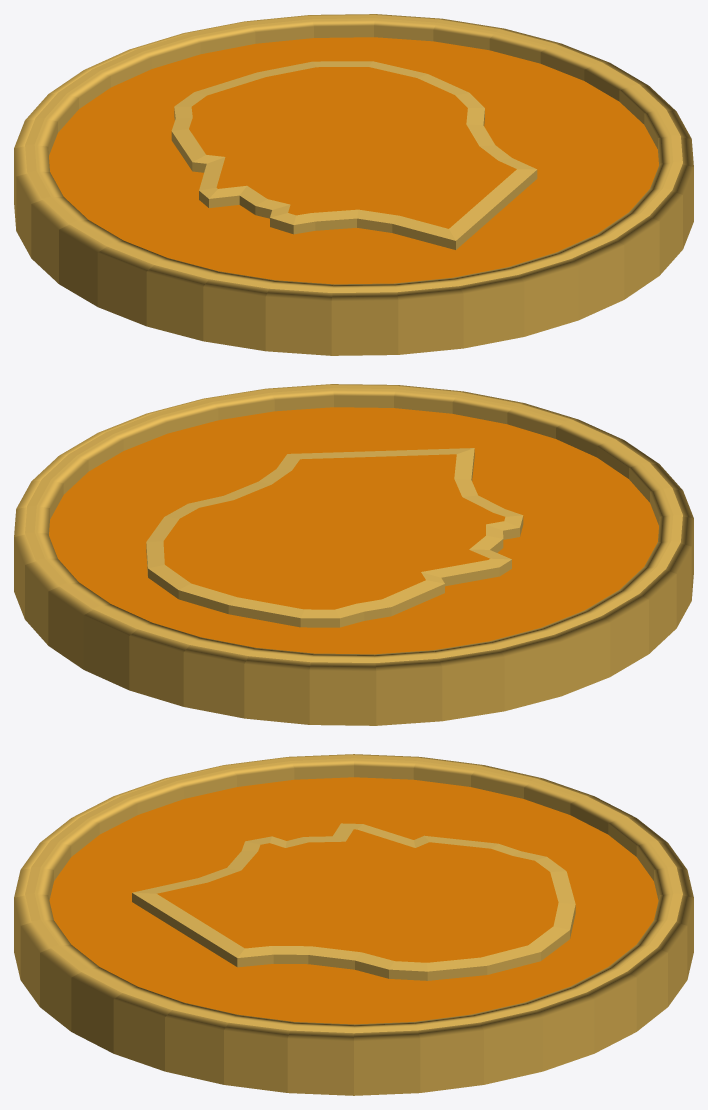
The model's file is CustomCoin2.fbx.
The picture shows the model from 3 angles, top to bottom: view 1: azimuth 30°, elevation 25°; view 2: azimuth 150°, elevation 25°; view 3: azimuth 270°, elevation 25°; orthographic projection.
Parts seen in each view (by area): view 1: Cylinder.001; view 2: Cylinder.001; view 3: Cylinder.001.
Boxes of the visible parts, bbox=[...] form: Cylinder.001: bbox=[14, 14, 693, 355]; Cylinder.001: bbox=[14, 384, 693, 725]; Cylinder.001: bbox=[14, 754, 693, 1095].
Size of the model in its own units: 200 by 20.57 by 200.
